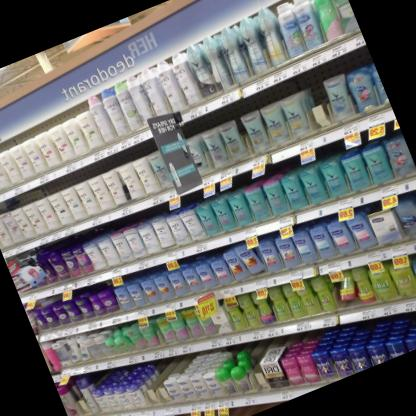empty_space: (294, 67, 337, 132), (238, 341, 271, 392), (134, 361, 161, 407), (148, 358, 172, 406), (66, 374, 90, 416)
